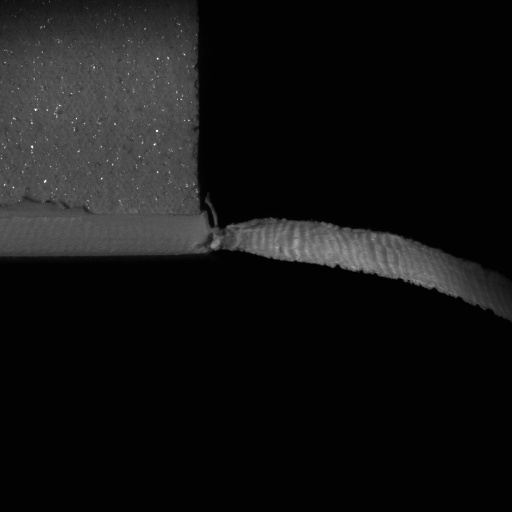changdai: (196, 208, 511, 322)
